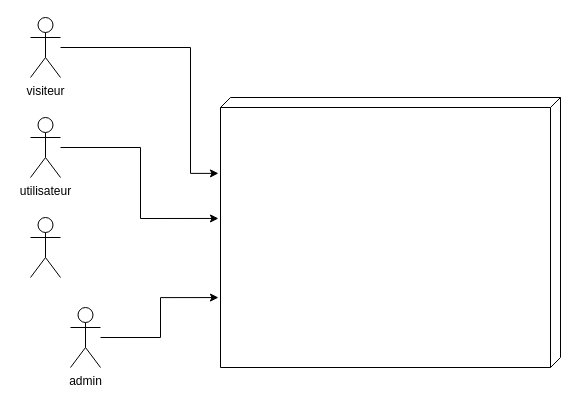
This 578x406 diagram has some shape labels left out. Each missing label, with the box of its shape:
professeur: (30, 216, 60, 278)
Systeme: (220, 96, 560, 368)
